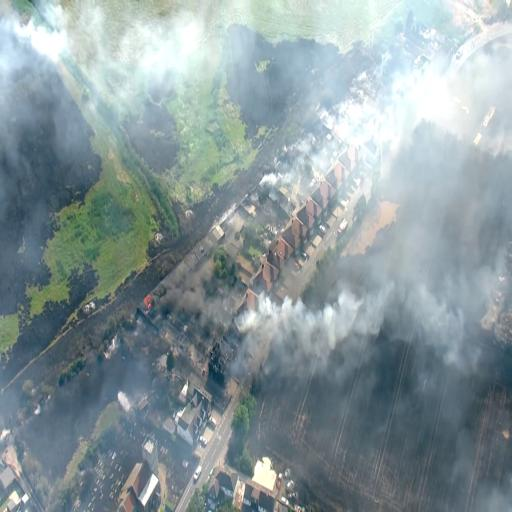smoke: (268, 312, 370, 359)
